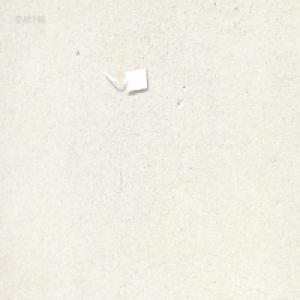LuggageTag: (101, 63, 150, 94)
